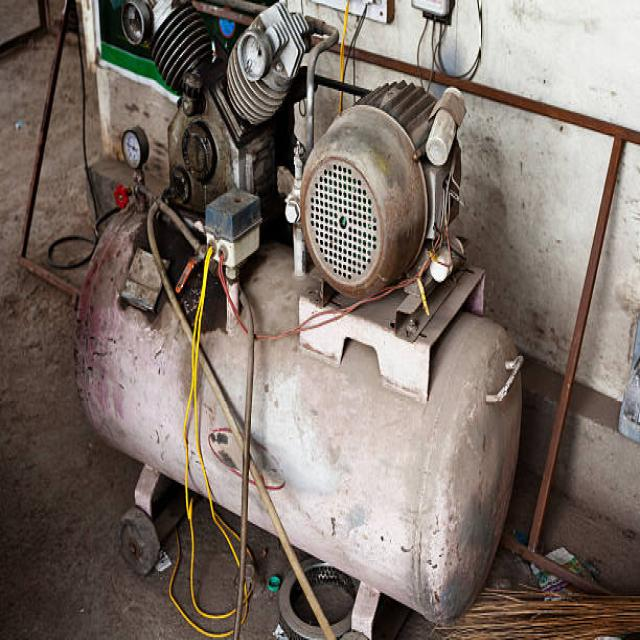compressor: (72, 0, 525, 635)
